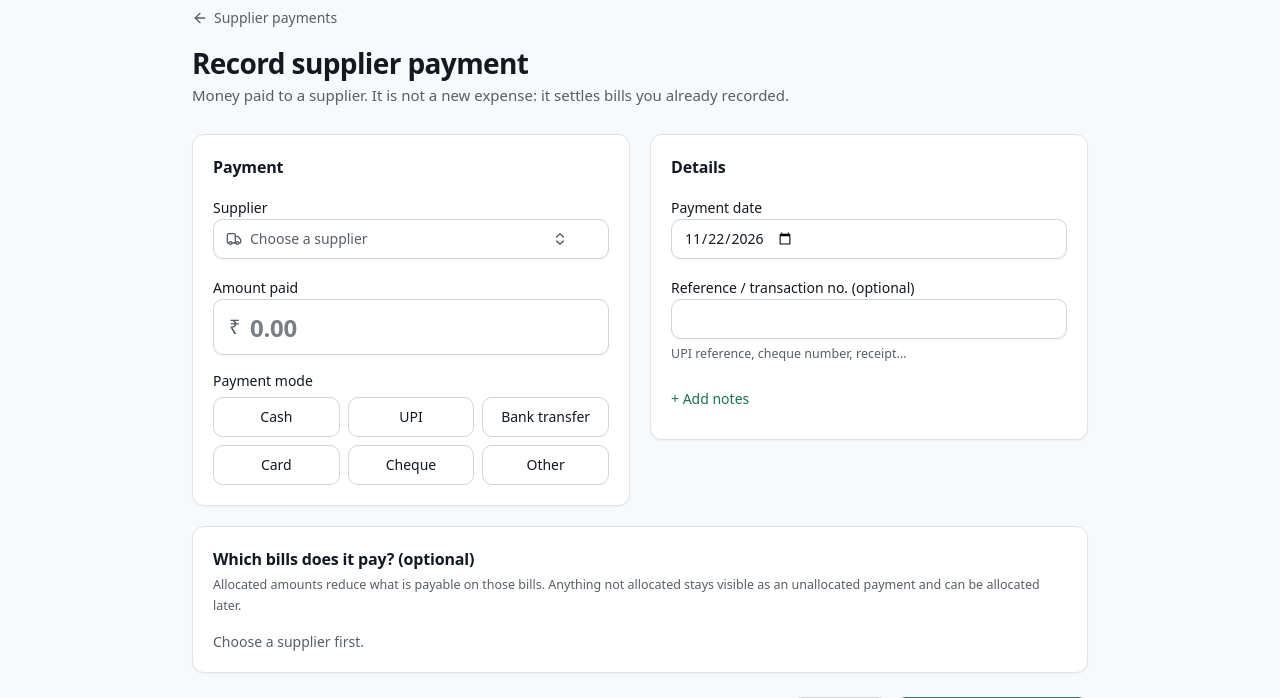
Test: supplier payment form: supplier dropdown › shows a clear empty state when nobody is owed anything
Click the button "Choose a supplier" at (309, 239), box [213,219,609,259]
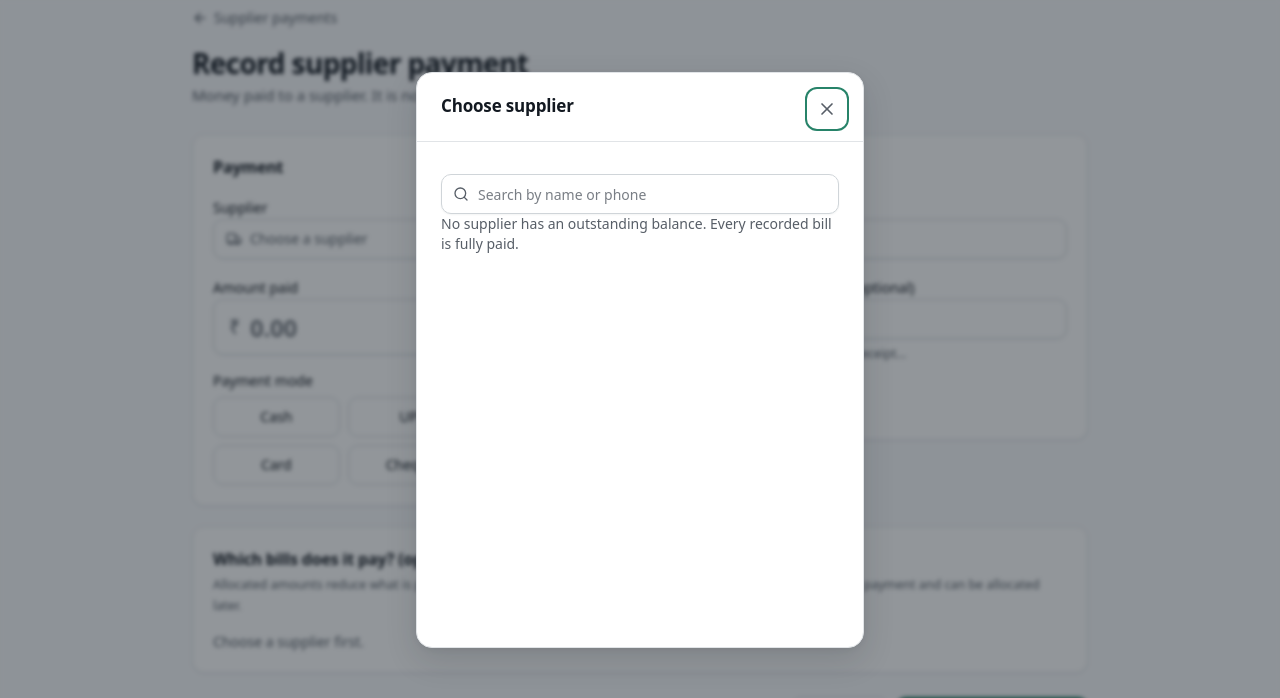
Result: the text "No supplier has an outstanding balance" is shown at [441,214,832,253]
